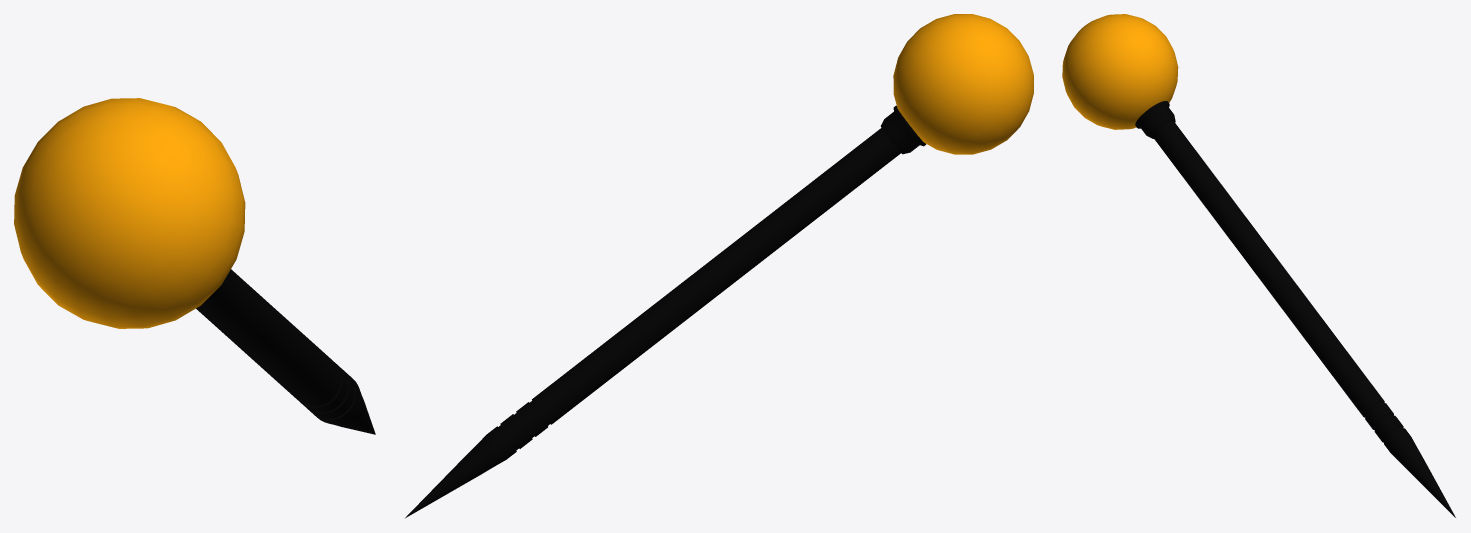
The model's file is ORANGE.glb.
3 views of the same model, side by side, from view 1: azimuth 30°, elevation 25°; view 2: azimuth 150°, elevation 25°; view 3: azimuth 270°, elevation 25° (orthographic). The views are drawn at different scales.
Visible parts, largest first — view 1: Sphere, Needle; view 2: Needle, Sphere, Ball_Holder; view 3: Needle, Sphere, Ball_Holder.
Part boxes in pixels (x1,y1,x2,y2): Sphere: (14,98,245,328); Needle: (196,269,375,434); Needle: (405,128,900,518); Sphere: (893,14,1033,154); Ball_Holder: (881,105,926,154); Needle: (1152,120,1455,517); Sphere: (1062,14,1178,129); Ball_Holder: (1135,101,1175,138).
Size of the model in its own units: 7.45 by 7.45 by 7.45.
